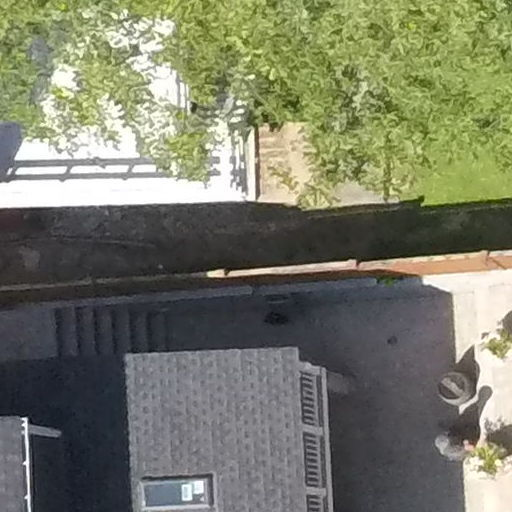fence: (1, 241, 507, 308)
